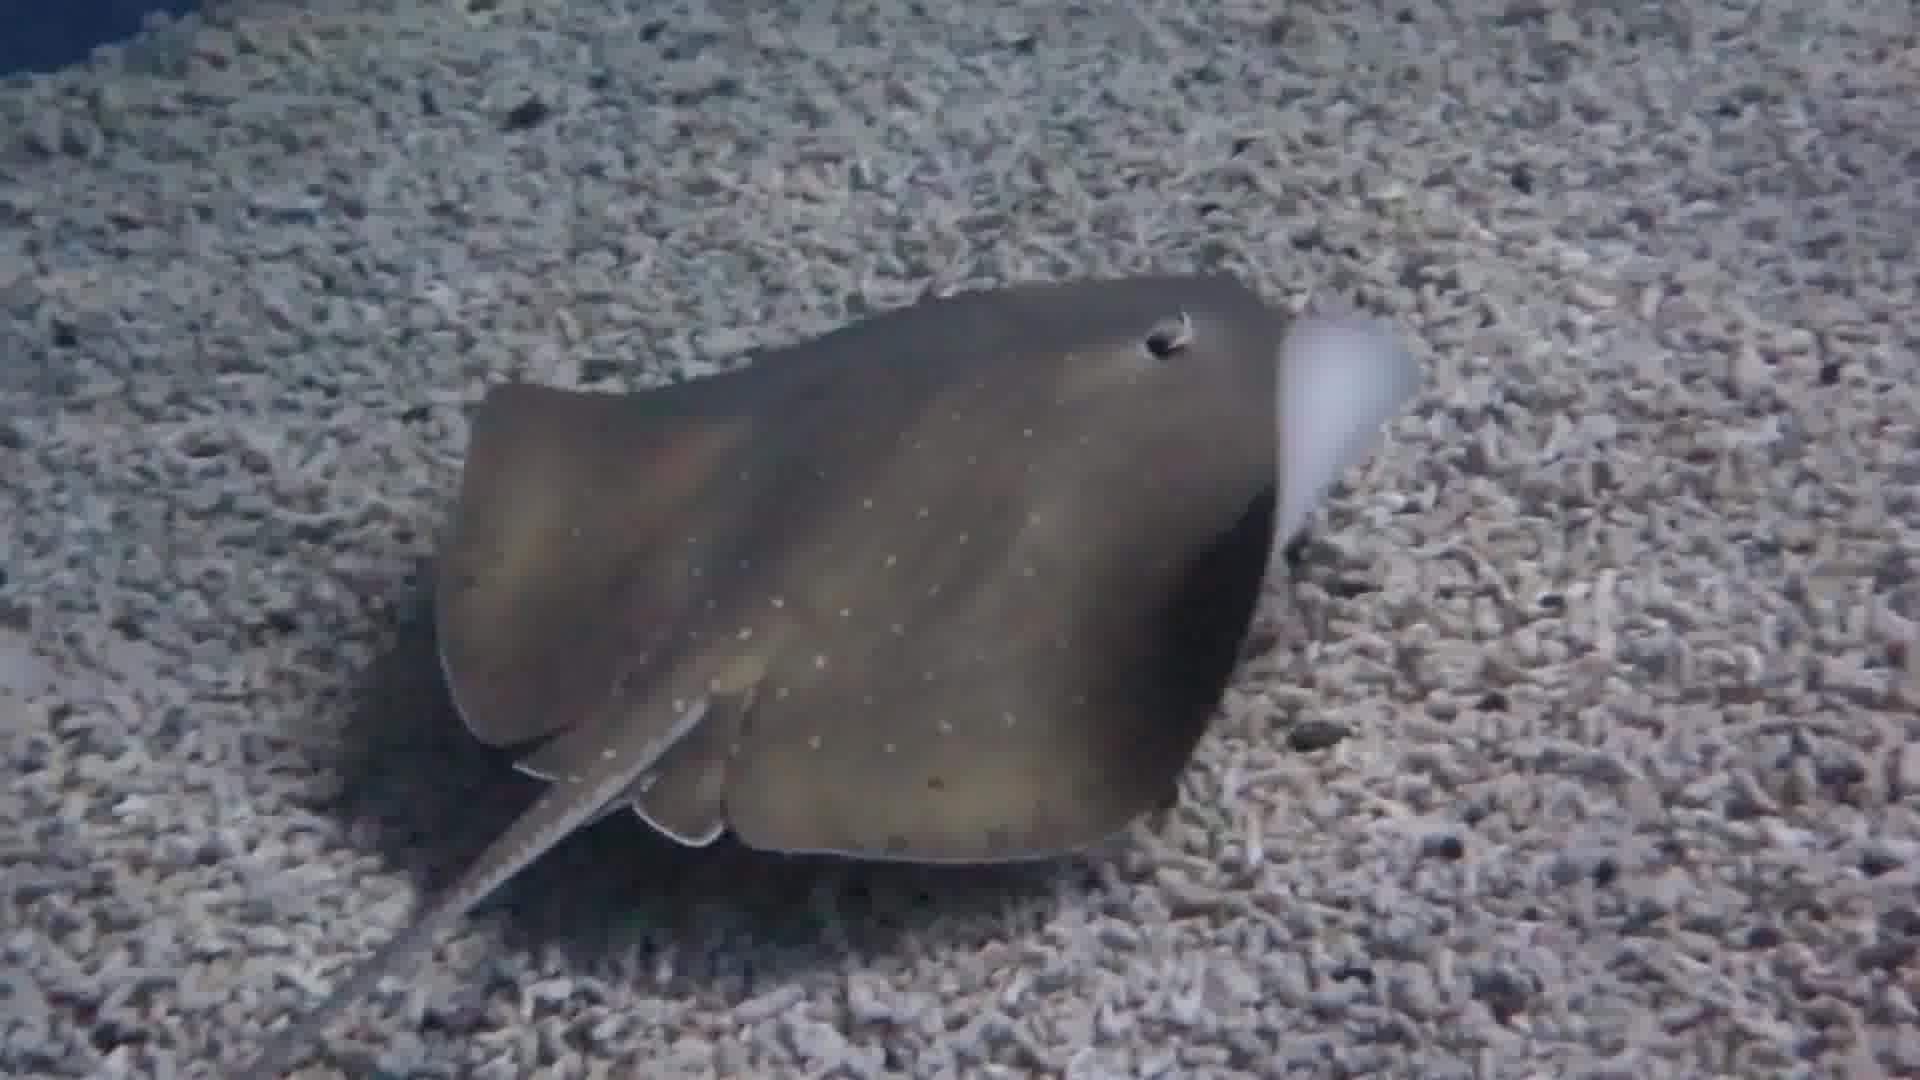Himantura gerrardi: (348, 262, 1443, 1080)
